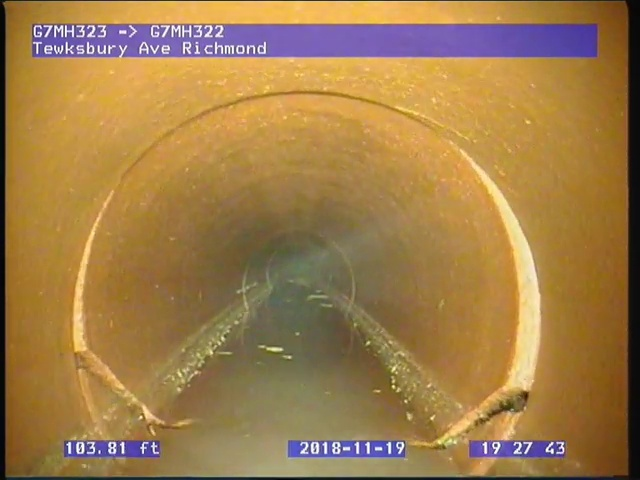crack: (408, 385, 535, 452), (133, 397, 197, 440)
